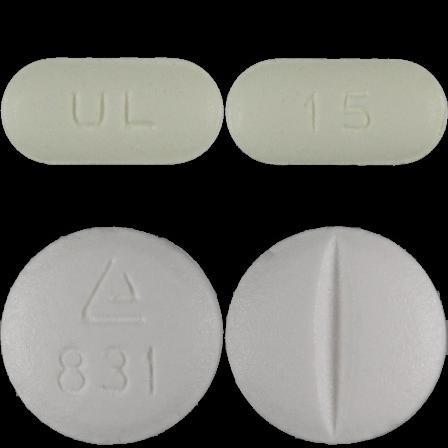51655-577: (0, 0, 224, 224)
